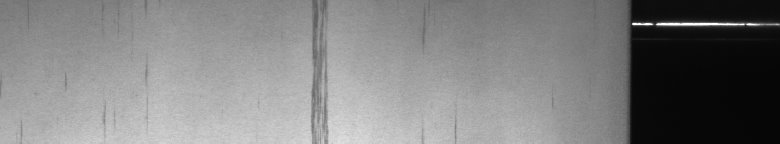hd: (305, 4, 332, 136)
